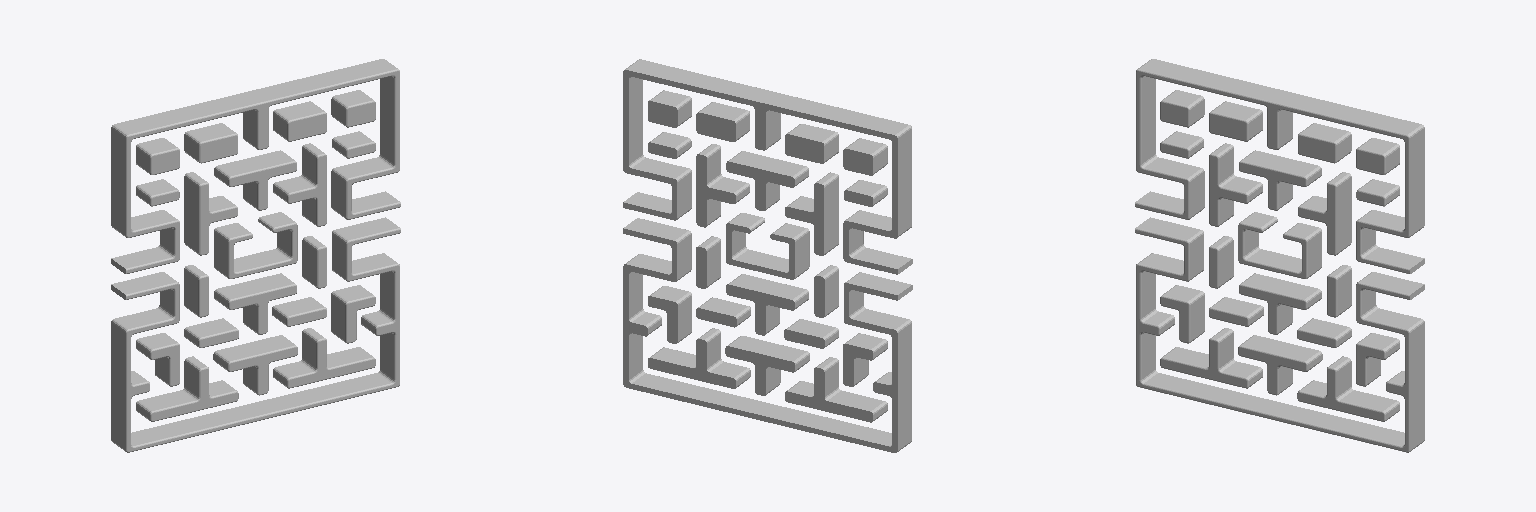
Rendered from 1_Maze.obj.
3 renders of one model, left to right at view 1: azimuth 30°, elevation 25°; view 2: azimuth 150°, elevation 25°; view 3: azimuth 330°, elevation 25°, orthographic.
Parts seen in each view (by area): view 1: Maze_Plane; view 2: Maze_Plane; view 3: Maze_Plane.
Part boxes in pixels (left/top/right/bottom): Maze_Plane: left=111, top=59, right=400, bottom=452; Maze_Plane: left=623, top=59, right=912, bottom=452; Maze_Plane: left=1135, top=59, right=1424, bottom=452.
Size of the model in its own units: 52.55 by 58.13 by 5.